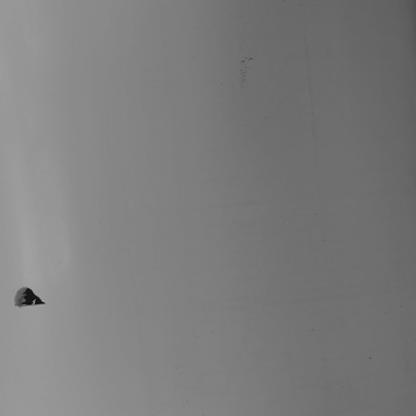kongdong: (12, 280, 51, 309)
